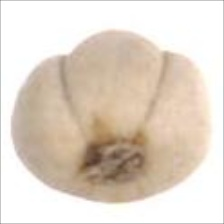L5: (58, 27, 173, 144), (72, 137, 163, 188)
L6: (7, 27, 214, 206)
